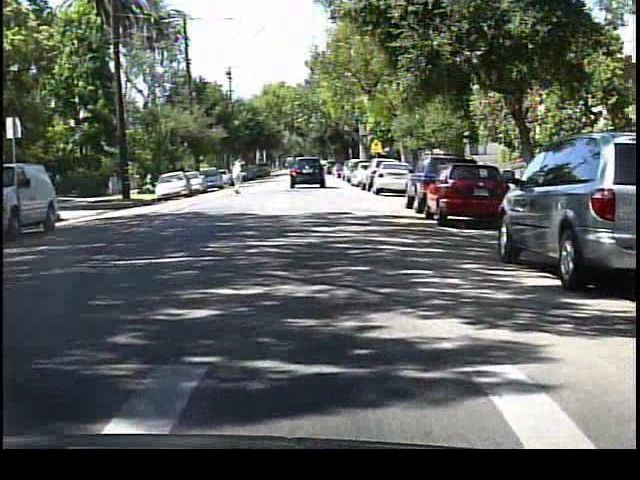person: (227, 153, 250, 196)
